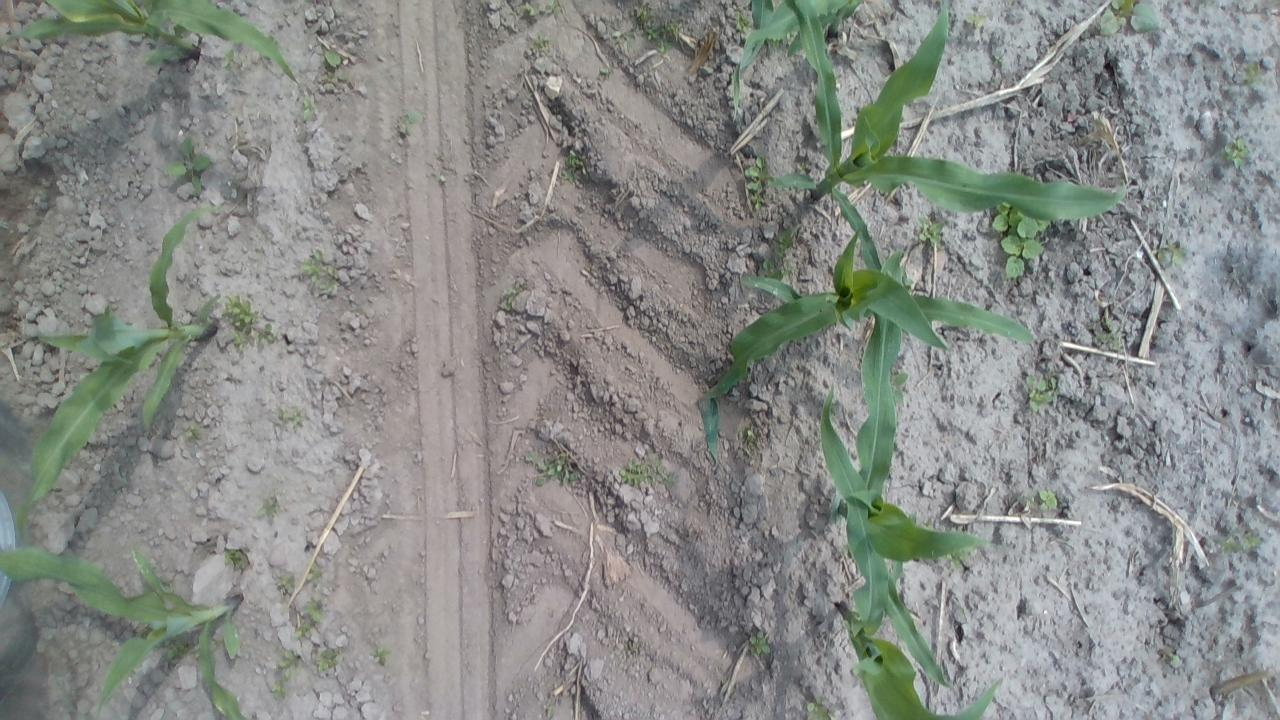Maize: (766, 1, 1134, 339), (818, 248, 1017, 696), (15, 202, 227, 535), (696, 226, 1038, 406), (0, 544, 252, 720), (833, 508, 1006, 720), (0, 2, 305, 93), (731, 0, 865, 125)
Weeds: (991, 201, 1054, 284), (219, 294, 279, 352), (518, 446, 588, 492), (165, 136, 213, 197), (615, 450, 679, 490), (630, 3, 680, 52), (1098, 1, 1160, 40), (299, 247, 343, 296), (741, 151, 774, 215), (1021, 371, 1063, 414), (316, 42, 348, 93), (1216, 526, 1264, 559), (554, 146, 588, 188), (914, 215, 947, 250), (1220, 134, 1252, 170), (798, 695, 844, 720), (1094, 316, 1123, 354), (501, 277, 532, 312), (256, 488, 286, 524), (516, 0, 565, 22), (774, 226, 802, 262), (314, 646, 348, 674), (1154, 242, 1188, 270), (889, 369, 912, 410), (1029, 487, 1064, 513), (747, 629, 775, 661), (297, 88, 320, 124), (522, 36, 558, 58), (219, 46, 252, 70), (278, 404, 306, 432), (278, 646, 302, 678), (400, 106, 428, 133), (301, 598, 328, 625), (761, 258, 791, 282), (960, 10, 991, 32), (164, 635, 190, 661), (736, 424, 762, 450), (220, 546, 248, 570), (1161, 646, 1190, 669), (368, 640, 393, 666), (944, 547, 971, 571), (275, 572, 300, 597), (292, 616, 317, 640), (731, 7, 754, 33), (622, 634, 644, 660), (1244, 60, 1266, 84), (304, 562, 324, 588), (182, 420, 205, 442), (595, 60, 615, 82), (270, 680, 288, 702), (771, 34, 791, 51), (432, 170, 449, 188), (544, 698, 558, 719), (990, 48, 1006, 64)
